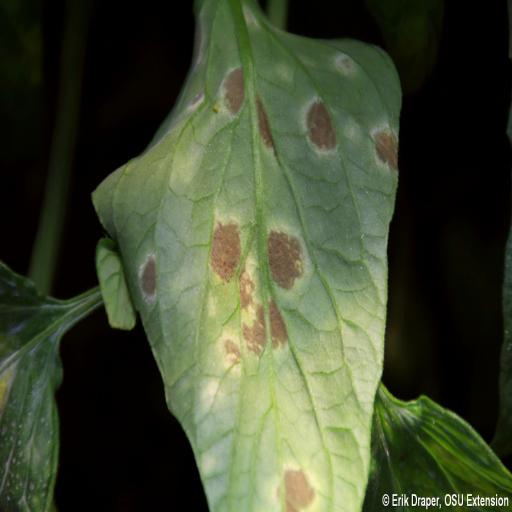disease_tomato: (93, 21, 402, 512)
